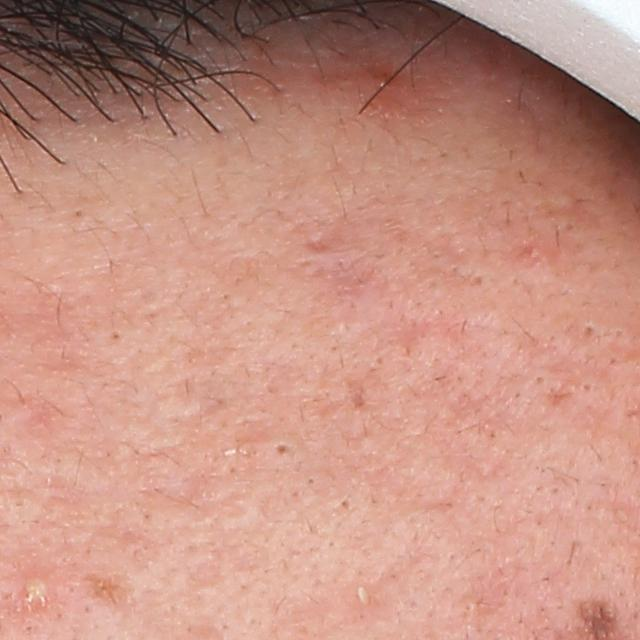atrophic_scar: (345, 369, 368, 412)
comedo: (580, 322, 596, 340), (273, 443, 291, 458), (109, 330, 123, 344), (581, 381, 595, 395), (533, 373, 548, 386), (341, 497, 353, 510), (72, 207, 83, 221)
pustule: (11, 565, 59, 611), (348, 583, 382, 611)
